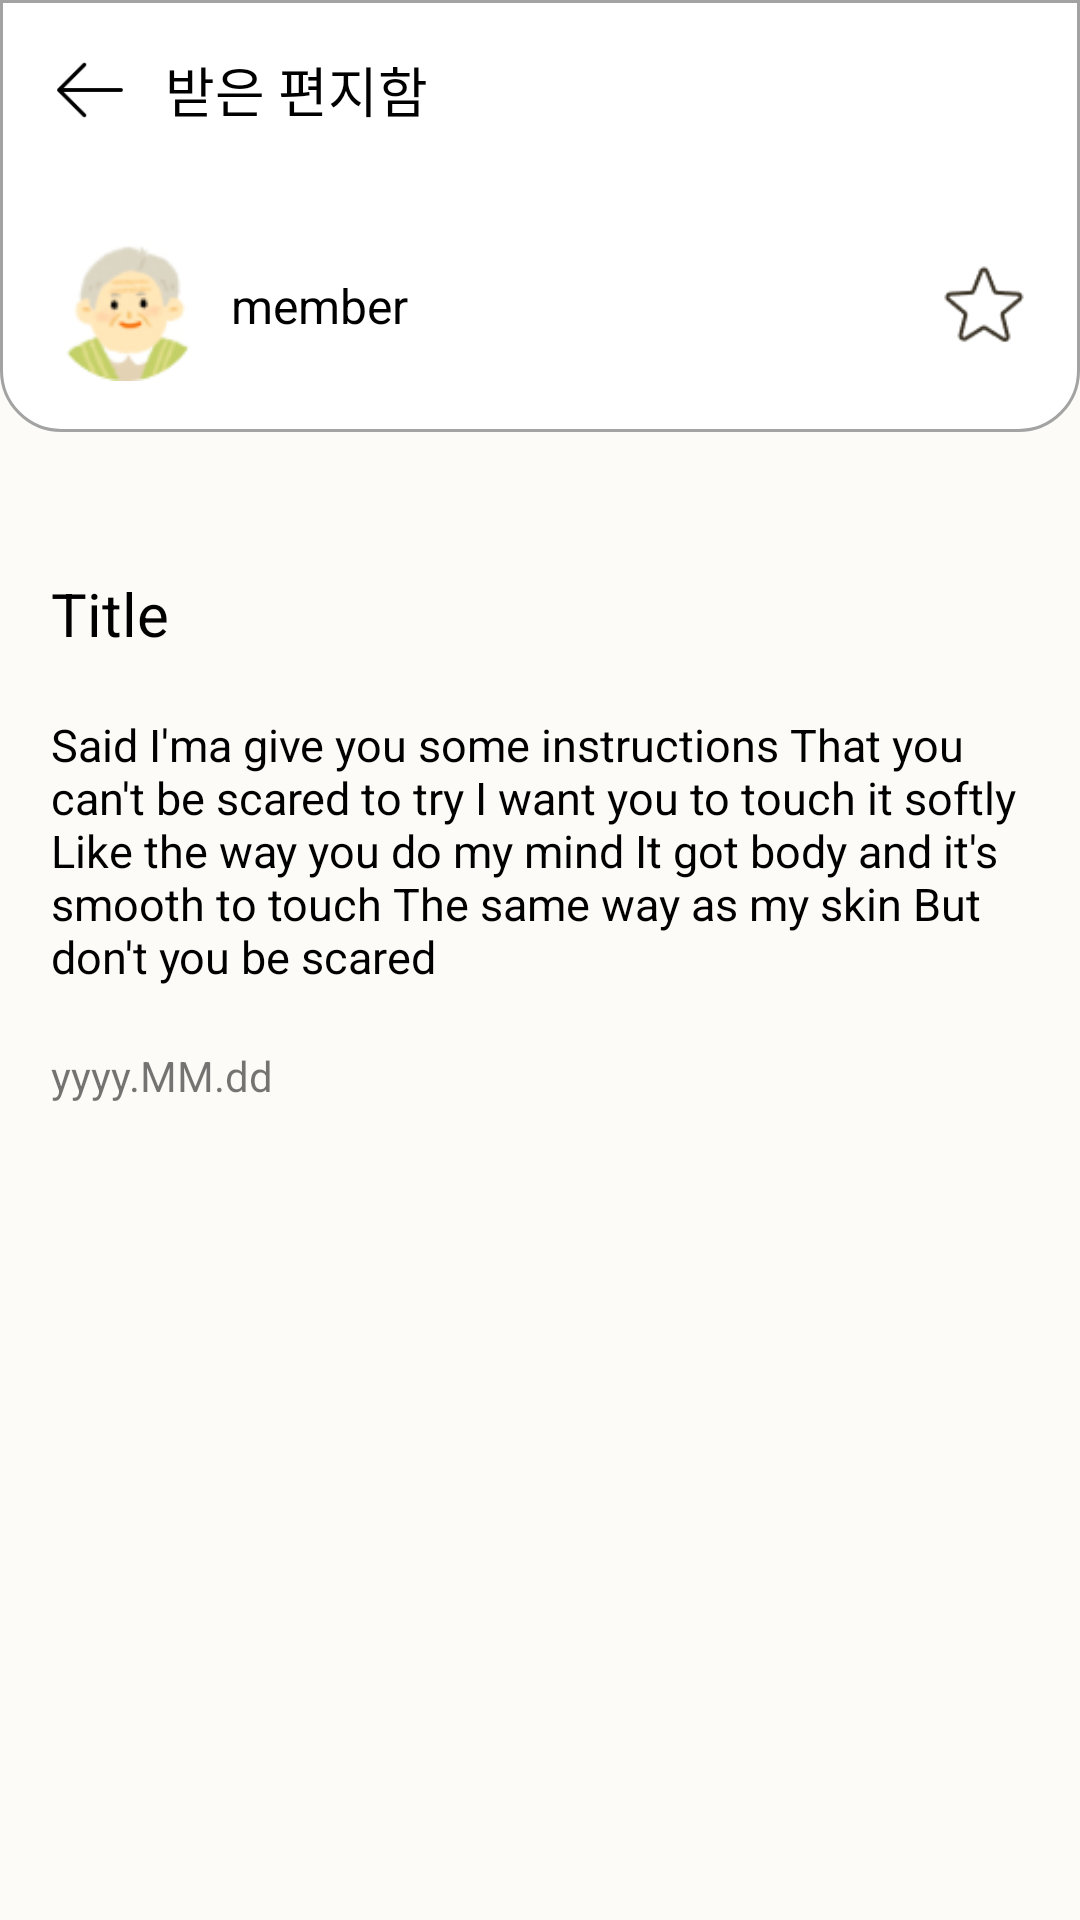

Named icons in this screenshot (1080*1920) and their bounding boxes, [x1=x1, y1=y1, x2=x2, y2=y2]:
back: [x1=57, y1=62, x2=123, y2=118]
grandfather: [x1=67, y1=247, x2=188, y2=381]
star: [x1=944, y1=266, x2=1024, y2=342]
